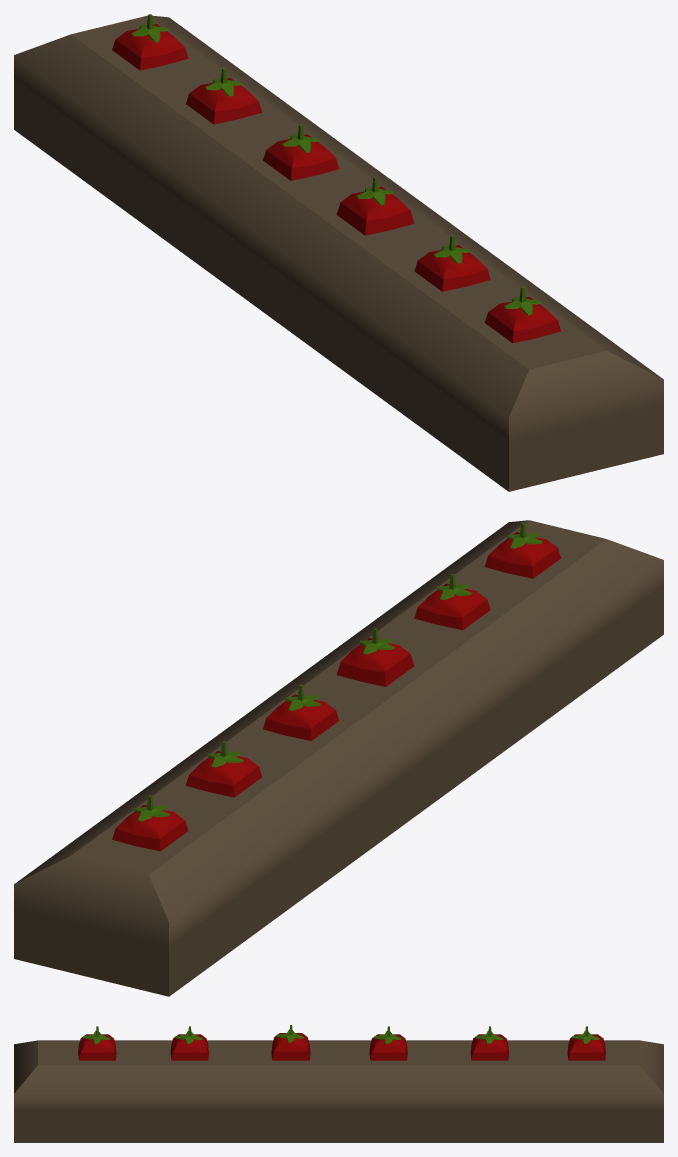
File: garden_tomato.fbx
3 renders of one model, top to bottom at view 1: azimuth 30°, elevation 25°; view 2: azimuth 150°, elevation 25°; view 3: azimuth 270°, elevation 25°, orthographic. The views are drawn at different scales.
Visible parts, largest first — view 1: pCube1, pCube6, pCube4, pCube7, pCube8, pCube9, pCube5; view 2: pCube1, pCube6, pCube9, pCube8, pCube5, pCube4, pCube7; view 3: pCube1, pCube6, pCube9, pCube7, pCube8, pCube4, pCube5.
Boxes of the visible parts, x1,y1,x2,y2 form: pCube1: [14, 15, 663, 491]; pCube6: [336, 177, 414, 235]; pCube4: [484, 286, 561, 343]; pCube7: [263, 124, 339, 180]; pCube8: [186, 68, 262, 124]; pCube9: [112, 14, 188, 70]; pCube5: [414, 235, 490, 291]; pCube1: [14, 520, 663, 996]; pCube6: [336, 628, 414, 686]; pCube9: [112, 795, 188, 851]; pCube8: [186, 741, 262, 797]; pCube5: [414, 574, 490, 630]; pCube4: [485, 522, 560, 578]; pCube7: [263, 684, 339, 741]; pCube1: [14, 1040, 663, 1142]; pCube6: [271, 1025, 310, 1060]; pCube9: [567, 1026, 605, 1060]; pCube7: [369, 1026, 407, 1060]; pCube8: [470, 1026, 509, 1060]; pCube4: [78, 1026, 116, 1060]; pCube5: [170, 1026, 208, 1060].
Size of the model in its own units: 1.18 by 1.02 by 6.51.
